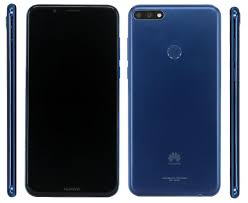huawei: (23, 1, 122, 197), (124, 1, 223, 195)
